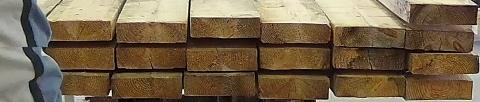Wood-Plank: (259, 74, 331, 100), (111, 72, 182, 98), (39, 46, 114, 70), (116, 44, 186, 69), (260, 46, 331, 70), (184, 72, 255, 96), (188, 47, 258, 71), (334, 74, 407, 97), (407, 28, 475, 52), (333, 48, 406, 70), (42, 73, 110, 96), (334, 26, 406, 47), (409, 53, 480, 74), (407, 78, 474, 100), (410, 3, 477, 25), (191, 17, 259, 38), (117, 22, 187, 42), (262, 24, 332, 43), (46, 21, 111, 40)
